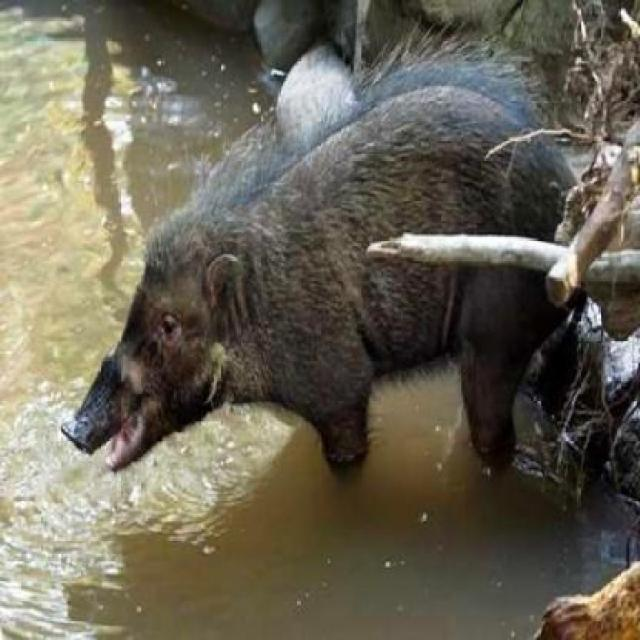Boar: (40, 40, 592, 549)
